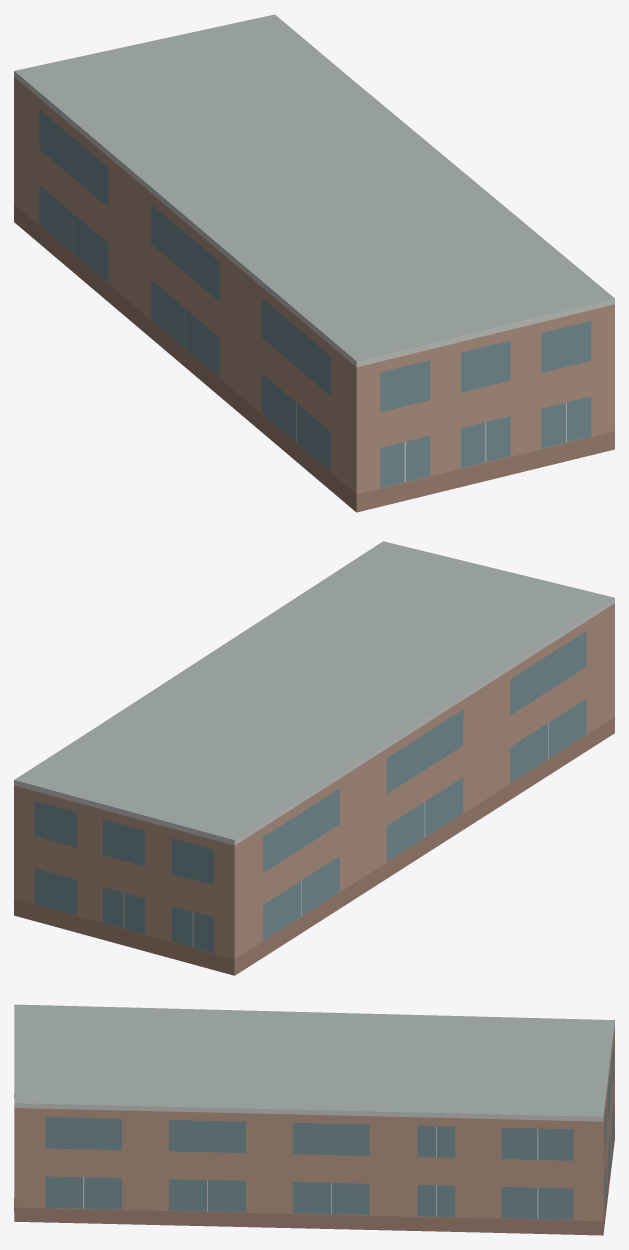
File: survey-upis-32470594.glb
3 views of the same model, one above another, from view 1: azimuth 30°, elevation 25°; view 2: azimuth 150°, elevation 25°; view 3: azimuth 270°, elevation 25° (orthographic). The views are drawn at different scales.
Parts seen in each view (by area): view 1: survey-upis-32470594.tmp; view 2: survey-upis-32470594.tmp; view 3: survey-upis-32470594.tmp.
Boxes of the visible parts, bbox=[...] form: survey-upis-32470594.tmp: bbox=[14, 14, 614, 512]; survey-upis-32470594.tmp: bbox=[14, 541, 614, 975]; survey-upis-32470594.tmp: bbox=[14, 1004, 614, 1235].
Bounding box in the file's own units: 12.44 × 6.1 × 28.05.
